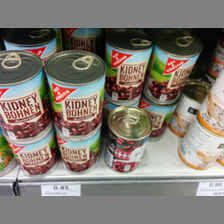beans: (52, 58, 122, 155), (1, 59, 51, 157), (121, 41, 175, 118), (173, 41, 224, 122), (123, 121, 174, 199)
